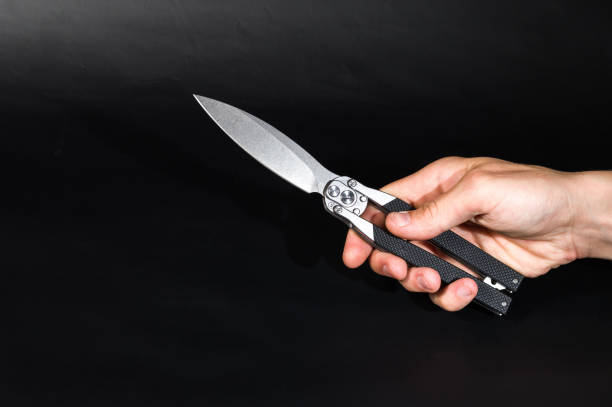knife: (190, 91, 527, 318)
